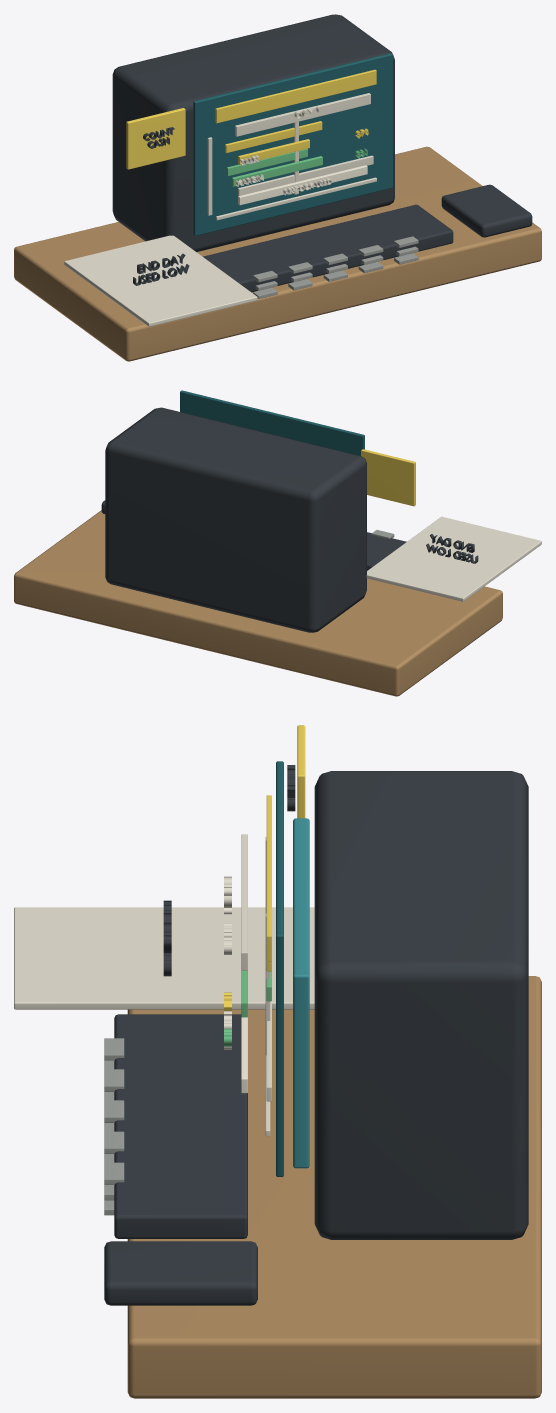
File: daily_report_computer.glb
3 renders of one model, top to bottom at view 1: azimuth 30°, elevation 25°; view 2: azimuth 150°, elevation 25°; view 3: azimuth 270°, elevation 25°, orthographic. The views are drawn at different scales.
Visible parts, largest first — view 1: backroom_computer_desk, daily_report_crt_body, daily_report_screen_panel, daily_report_paper_printout, keyboard_block, mouse_block, computer_sticky_note, daily_report_title_bar, daily_report_screen_title_block, daily_report_restock_bar, daily_report_screen_restock_block, daily_report_sales_bar (+6 smaller); view 2: daily_report_crt_body, backroom_computer_desk, daily_report_paper_printout, daily_report_screen_panel, computer_sticky_note, keyboard_block, daily_report_printout_text; view 3: daily_report_crt_body, backroom_computer_desk, keyboard_block, daily_report_paper_printout, mouse_block, daily_report_crt_screen, daily_report_screen_panel, daily_report_title_bar, daily_report_screen_title_block, computer_sticky_note.
Boxes of the visible parts, x1,y1,x2,y2 form: backroom_computer_desk: [14, 146, 541, 361]; daily_report_crt_body: [112, 14, 394, 251]; daily_report_screen_panel: [193, 53, 392, 235]; daily_report_paper_printout: [64, 235, 257, 326]; keyboard_block: [203, 204, 453, 292]; mouse_block: [441, 184, 532, 237]; computer_sticky_note: [126, 108, 185, 169]; daily_report_title_bar: [215, 69, 376, 123]; daily_report_screen_title_block: [235, 93, 370, 136]; daily_report_restock_bar: [238, 155, 373, 196]; daily_report_screen_restock_block: [238, 165, 367, 205]; daily_report_sales_bar: [225, 121, 322, 153]; daily_report_crt_body: [105, 407, 366, 632]; backroom_computer_desk: [14, 510, 502, 696]; daily_report_paper_printout: [366, 516, 541, 601]; daily_report_screen_panel: [180, 390, 364, 455]; computer_sticky_note: [361, 449, 415, 506]; keyboard_block: [367, 532, 406, 570]; daily_report_printout_text: [426, 534, 478, 563]; daily_report_crt_body: [314, 771, 528, 1239]; backroom_computer_desk: [127, 976, 541, 1398]; keyboard_block: [114, 1014, 247, 1238]; daily_report_paper_printout: [14, 907, 314, 1009]; mouse_block: [104, 1241, 257, 1305]; daily_report_crt_screen: [293, 818, 309, 1168]; daily_report_screen_panel: [276, 761, 283, 1176]; daily_report_title_bar: [266, 795, 271, 961]; daily_report_screen_title_block: [241, 834, 247, 970]; computer_sticky_note: [297, 725, 305, 818].
Bounding box in the file's own units: 1.33 × 0.61 × 0.79.
